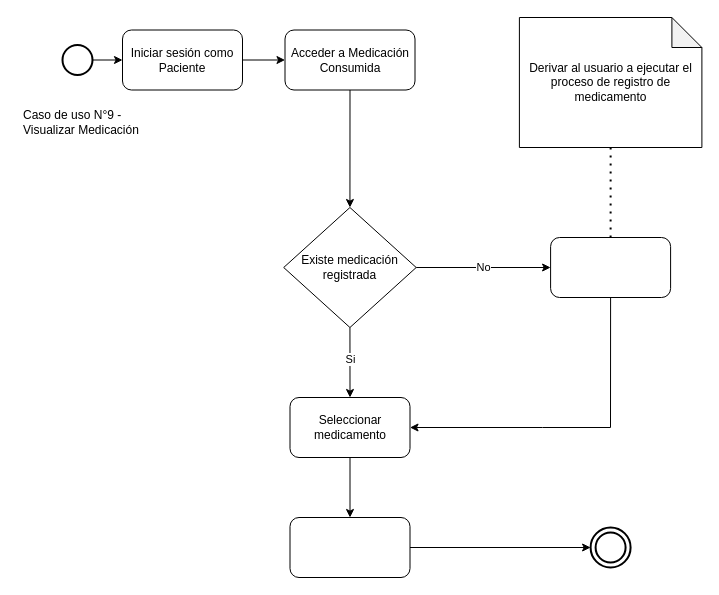
This 719x595 diagram has some shape labels left out. The box of each missing label's shape, as (x1, y1, x2, y2) in pixels:
Ingresar medicamento: (550, 236, 671, 298)
Mostrar información de medicamento: (289, 516, 410, 578)
